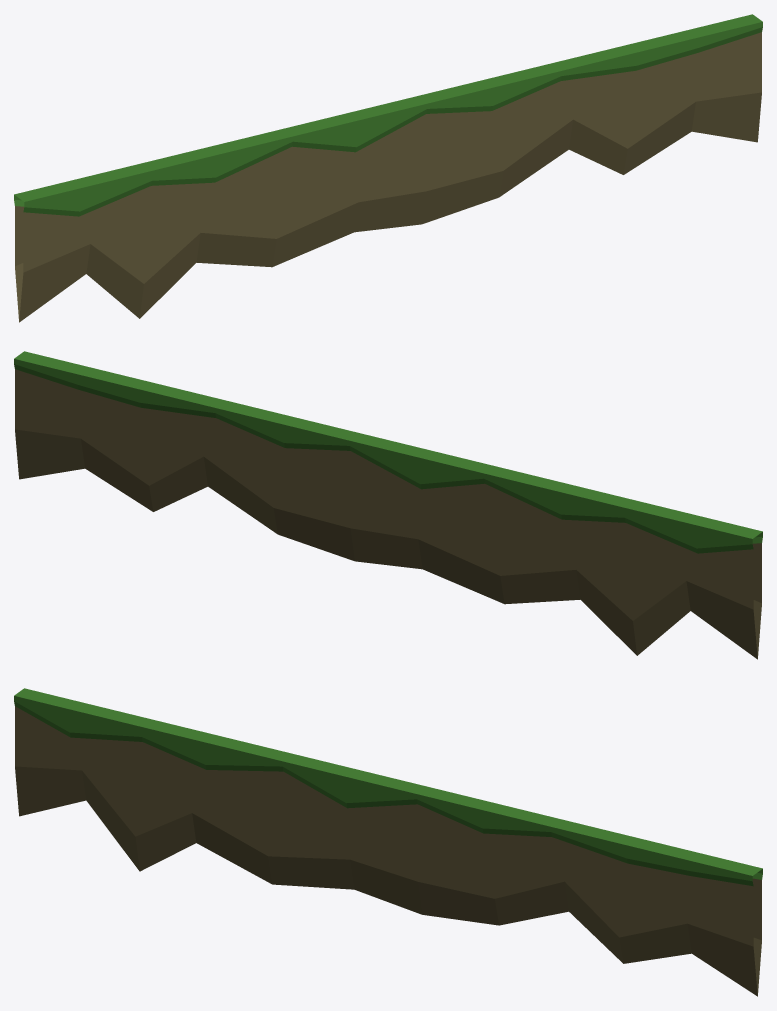
The model's file is Ground.fbx.
3 renders of one model, top to bottom at view 1: azimuth 30°, elevation 25°; view 2: azimuth 150°, elevation 25°; view 3: azimuth 330°, elevation 25°, orthographic.
Parts seen in each view (by area): view 1: Cube.001; view 2: Cube.001; view 3: Cube.001.
Part boxes in pixels (<box>): Cube.001: <box>14,14,762,322</box>; Cube.001: <box>14,351,762,659</box>; Cube.001: <box>14,688,762,996</box>.
Bounding box in the file's own units: 50 × 9.72 × 1.21.
